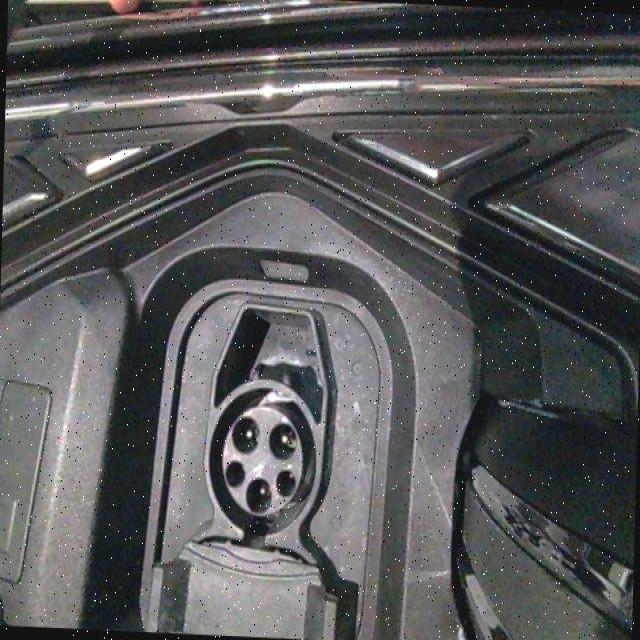Type 1: (192, 376, 329, 524)
